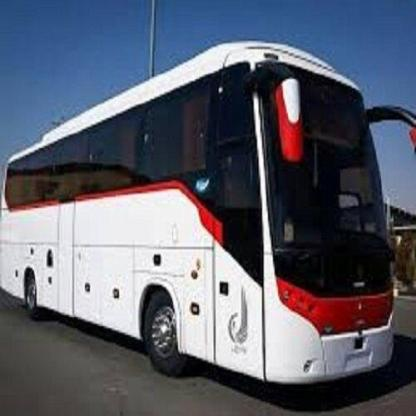Bus: (0, 41, 416, 393)
